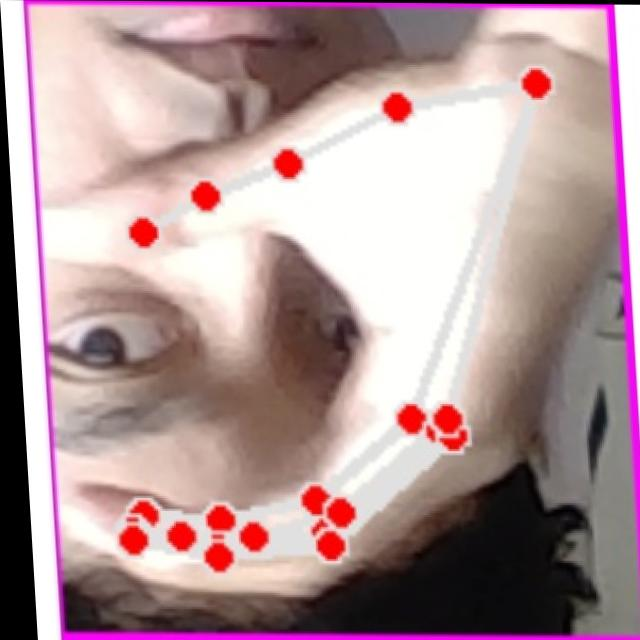C: (45, 32, 623, 605)
